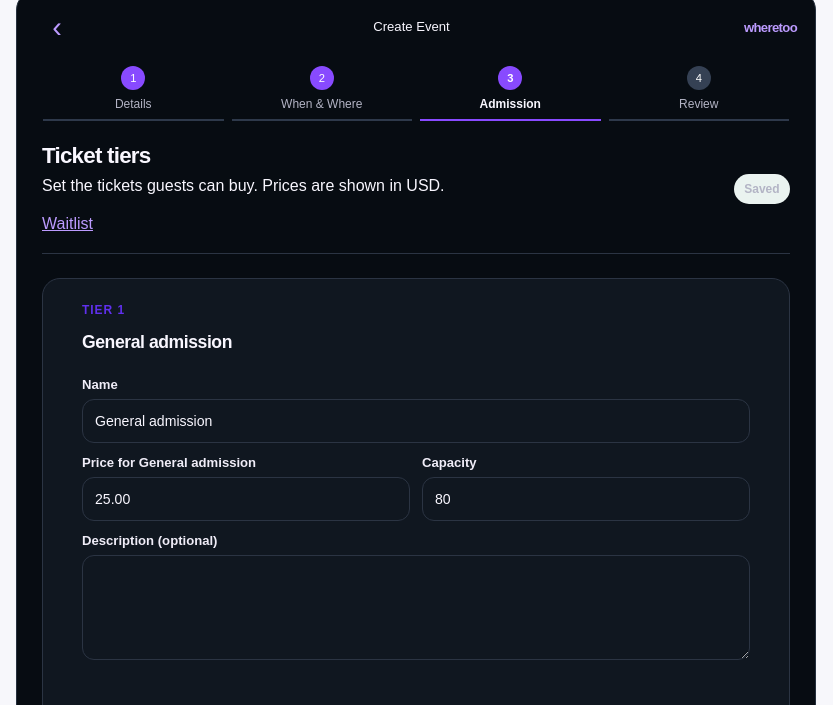
Test case: OrganizerTicketTiersPage › validates Name before mutating and retains the local value
Clear the field labelled "Name" at (416, 421), box [82,399,750,443]
(page scrolled)
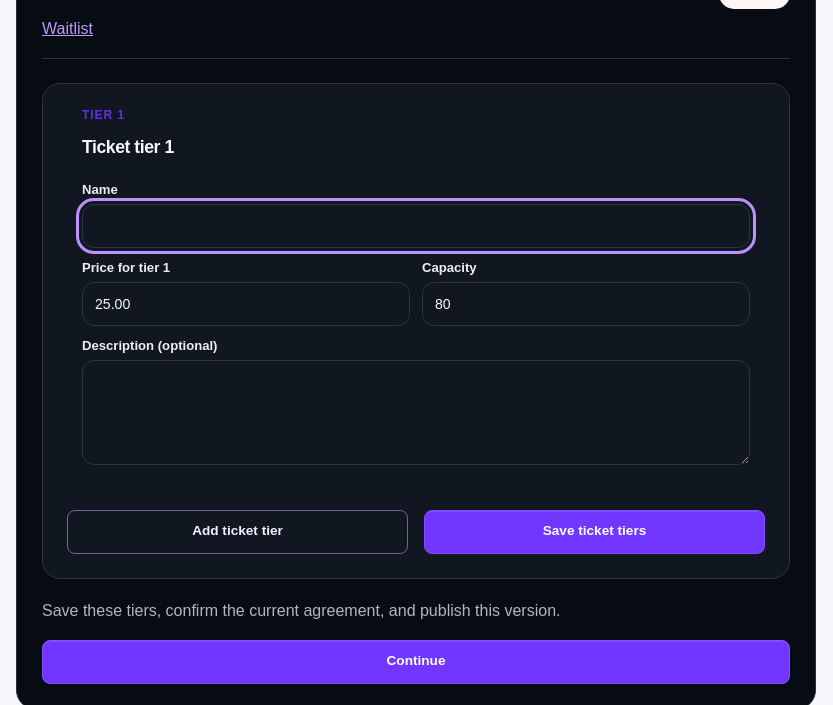
Click the button "Save ticket tiers".
click(594, 532)  # box [424,510,765,554]
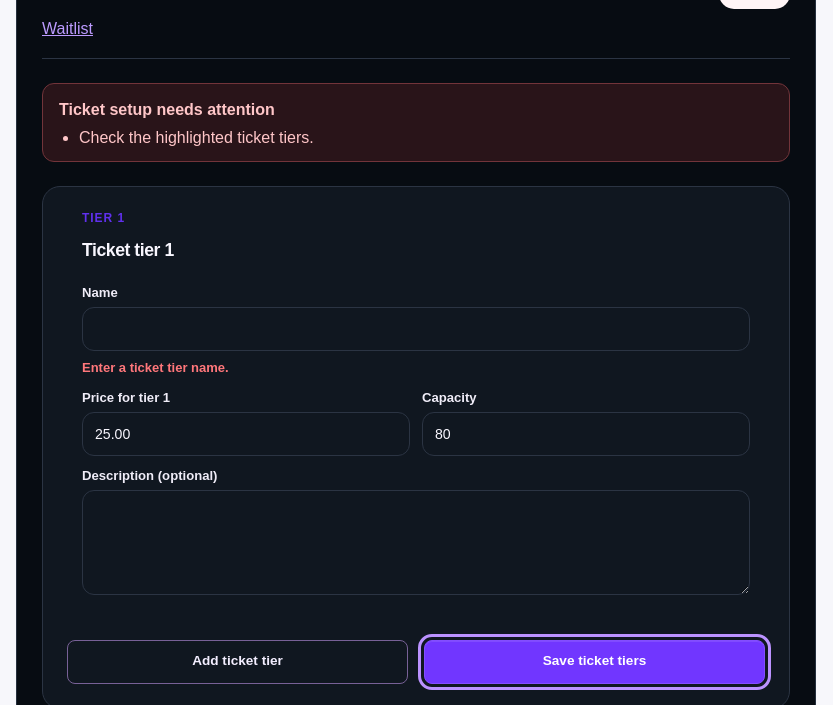
Expected: the text "Enter a ticket tier name." is shown, [82,360,229,374]
